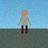person: (18, 10, 31, 33)
